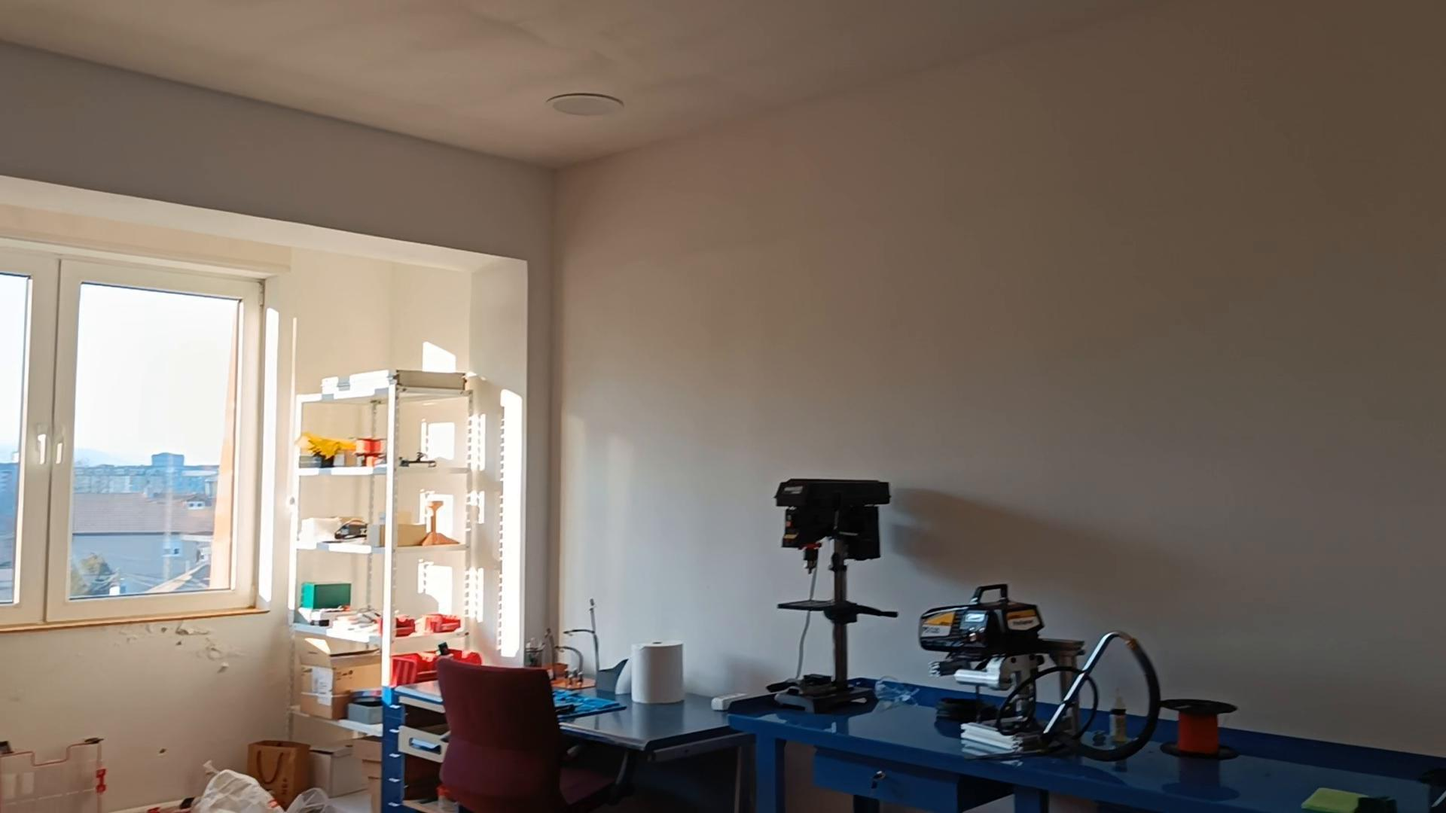ceiling: (0, 0, 1151, 172)
wall: (0, 9, 1445, 750), (0, 624, 284, 787)
